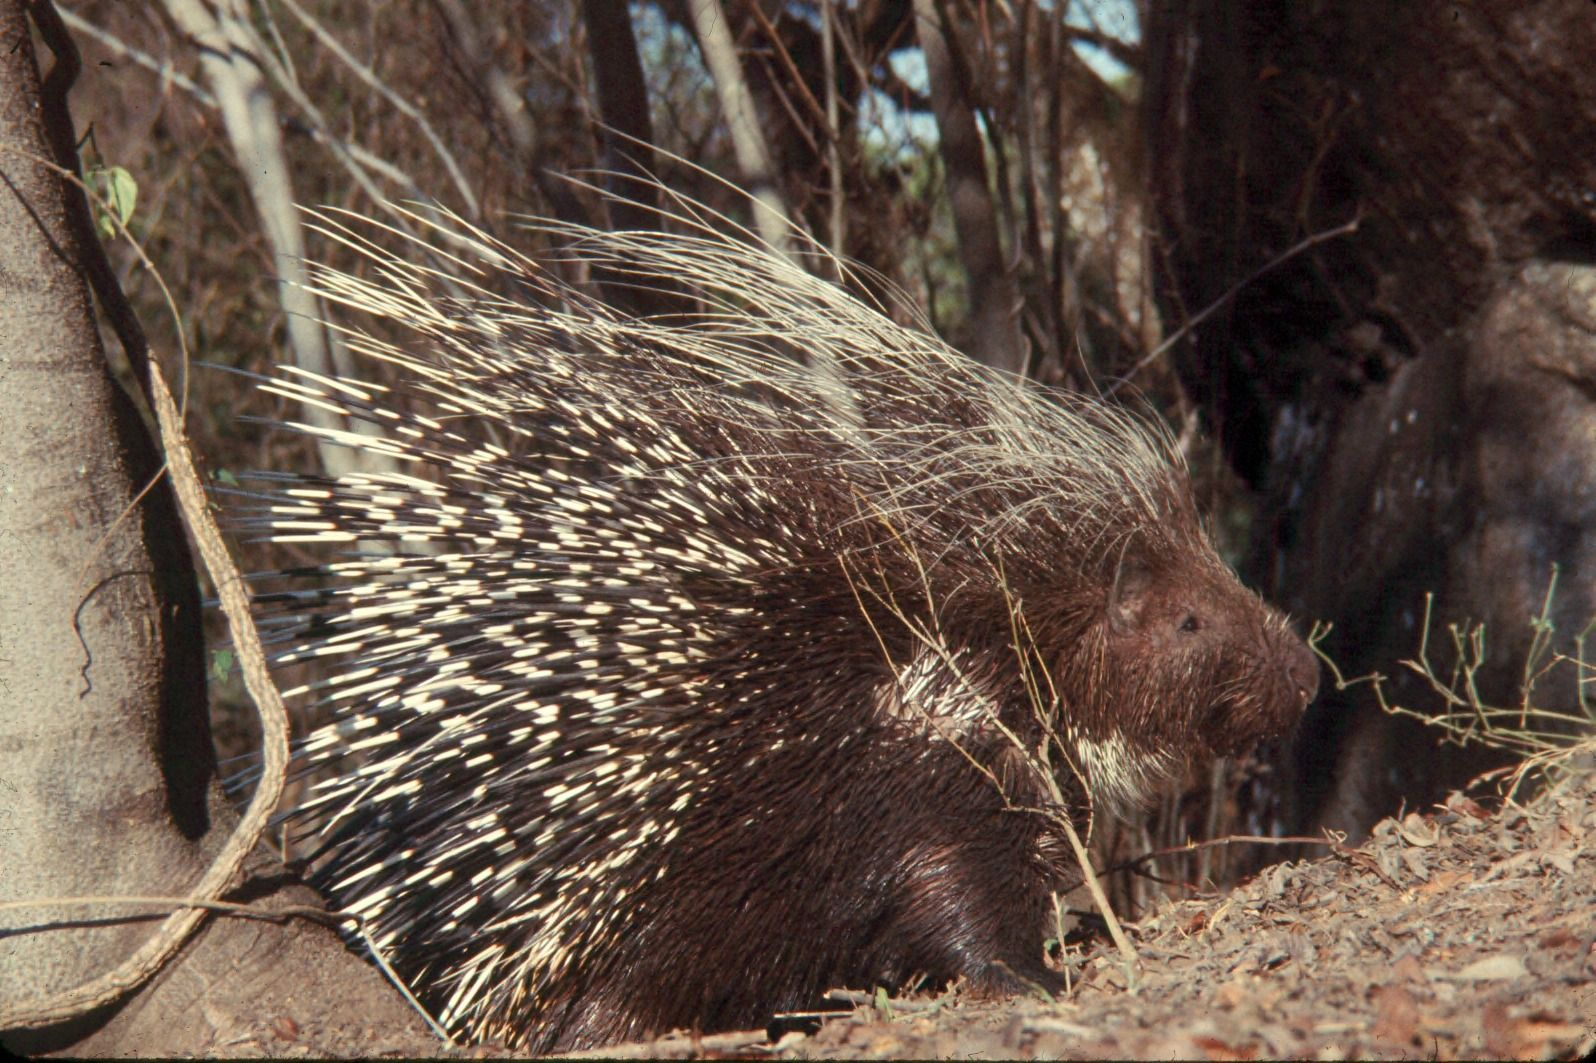porcupine: (199, 198, 1378, 1063)
